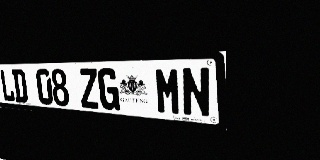0: (35, 69, 54, 105)
8: (50, 69, 70, 107)
D: (12, 69, 28, 103)
G: (97, 68, 120, 111)
L: (0, 69, 15, 102)
M: (154, 67, 182, 116)
N: (181, 67, 211, 118)
Z: (78, 68, 100, 109)
